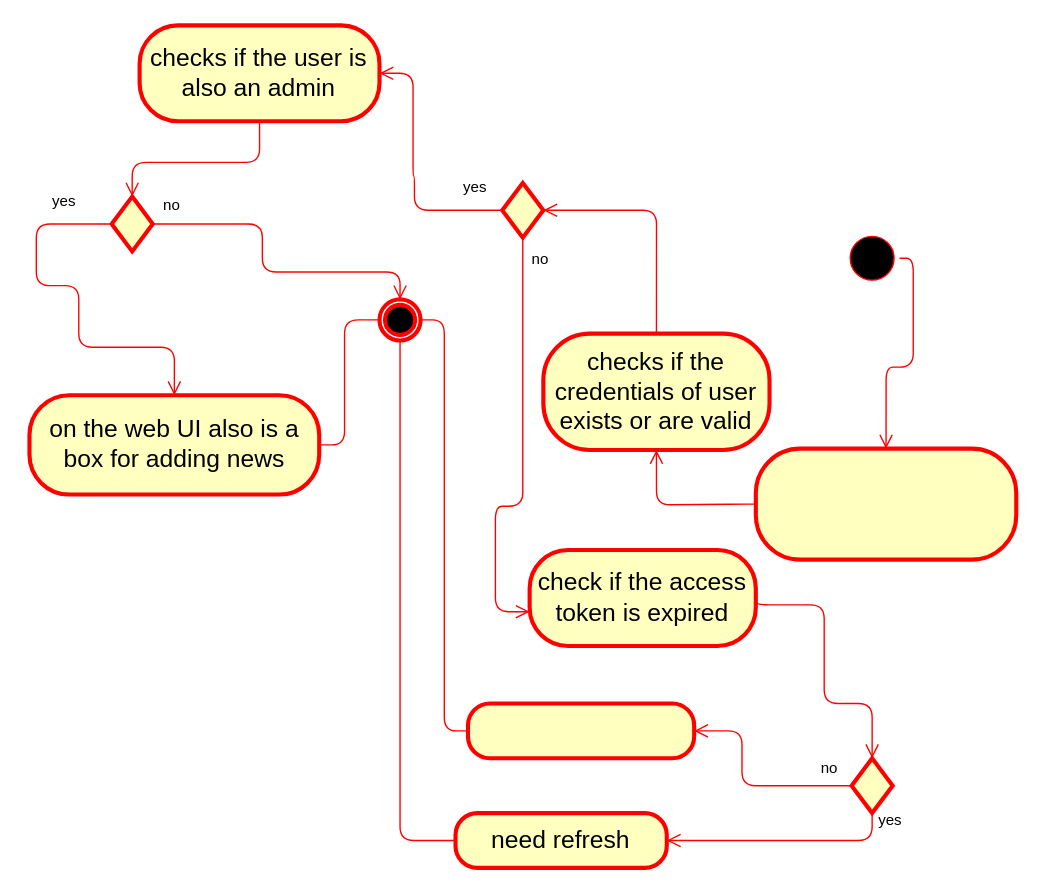
The diagram is 1043 pixels wide and 893 high, and some of its shapes have lost their labels. Here are the shapes that lost their labels. From the top down, the centre of each, then its label:
pixel 885 503: the admin fills out the title and the text of the news and confirm
pixel 580 730: error message
